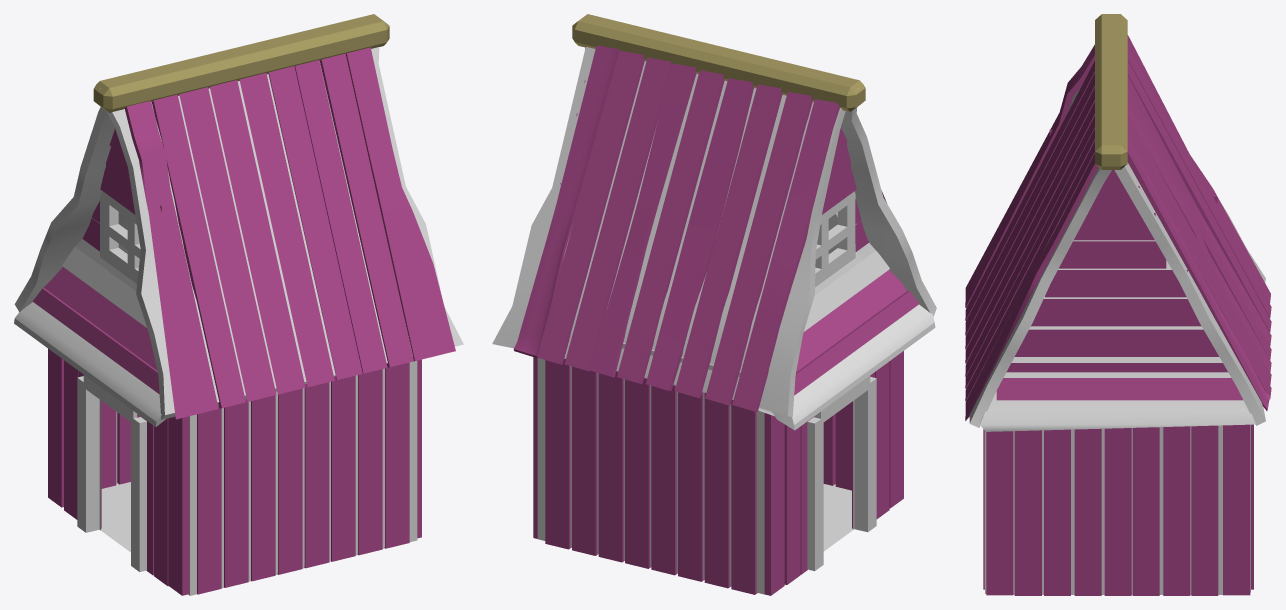
The model's file is alicehouse.fbx.
3 renders of one model, left to right at view 1: azimuth 30°, elevation 25°; view 2: azimuth 150°, elevation 25°; view 3: azimuth 270°, elevation 25°, orthographic.
Parts seen in each view (by area): view 1: pCube61, pCube69, pCube60, pCube89, pCube63, pCube64, pCube65, pCube66, pCube68, pCube62, pCube67, pCube58 (+29 smaller); view 2: pCube58, pCube73, pCube77, pCube74, pCube72, pCube71, pCube76, pCube70, pCube89, pCube75, pCube78, pCube91 (+29 smaller); view 3: pPyramid1, pCube4, pCube40, pCube89, pCube23, pCube51, pCube52, pCube56, pCube55, pCube57, pCube54, pCube22 (+29 smaller).
Boxes of the visible parts, left/top/right/bottom form: pCube61: left=125, top=100, right=218, bottom=419; pCube69: left=346, top=47, right=455, bottom=361; pCube60: left=99, top=47, right=463, bottom=419; pCube89: left=93, top=14, right=389, bottom=112; pCube63: left=179, top=87, right=276, bottom=401; pCube64: left=210, top=80, right=305, bottom=394; pCube65: left=239, top=73, right=334, bottom=387; pCube66: left=268, top=66, right=362, bottom=379; pCube68: left=320, top=53, right=413, bottom=367; pCube62: left=152, top=94, right=245, bottom=408; pCube67: left=294, top=60, right=387, bottom=373; pCube58: left=14, top=107, right=127, bottom=312; pCube58: left=492, top=47, right=845, bottom=416; pCube73: left=646, top=78, right=754, bottom=391; pCube77: left=537, top=51, right=644, bottom=364; pCube74: left=617, top=70, right=724, bottom=384; pCube72: left=675, top=84, right=782, bottom=398; pCube71: left=705, top=92, right=812, bottom=405; pCube76: left=564, top=57, right=671, bottom=371; pCube70: left=732, top=99, right=839, bottom=411; pCube89: left=572, top=14, right=865, bottom=111; pCube75: left=589, top=63, right=696, bottom=377; pCube78: left=513, top=45, right=619, bottom=358; pCube91: left=537, top=343, right=764, bottom=594; pPyramid1: left=980, top=240, right=1255, bottom=431; pCube4: left=996, top=378, right=1242, bottom=400; pCube40: left=1014, top=329, right=1218, bottom=356; pCube89: left=1095, top=14, right=1127, bottom=169; pCube23: left=1223, top=424, right=1250, bottom=595; pCube51: left=1191, top=425, right=1218, bottom=595; pCube52: left=1163, top=426, right=1190, bottom=595; pCube56: left=1132, top=427, right=1159, bottom=595; pCube55: left=1104, top=428, right=1131, bottom=595; pCube57: left=1074, top=428, right=1101, bottom=595; pCube54: left=1014, top=430, right=1041, bottom=595; pCube22: left=986, top=431, right=1013, bottom=595.
Size of the model in its own units: 31.69 by 46.22 by 27.82.
